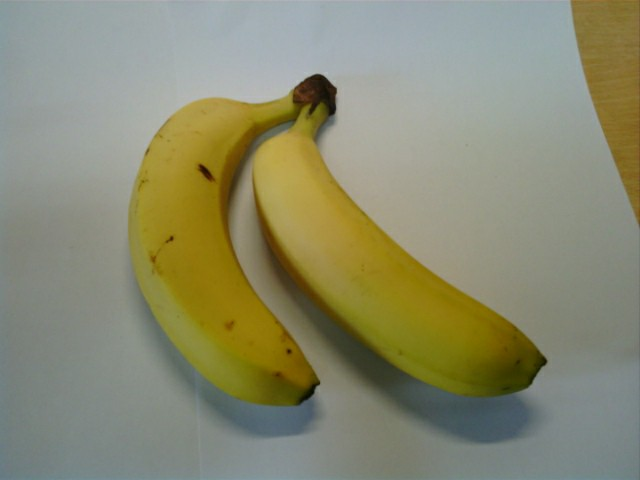fresh_banana: (251, 131, 547, 398)
normal_banana: (127, 94, 319, 405)
